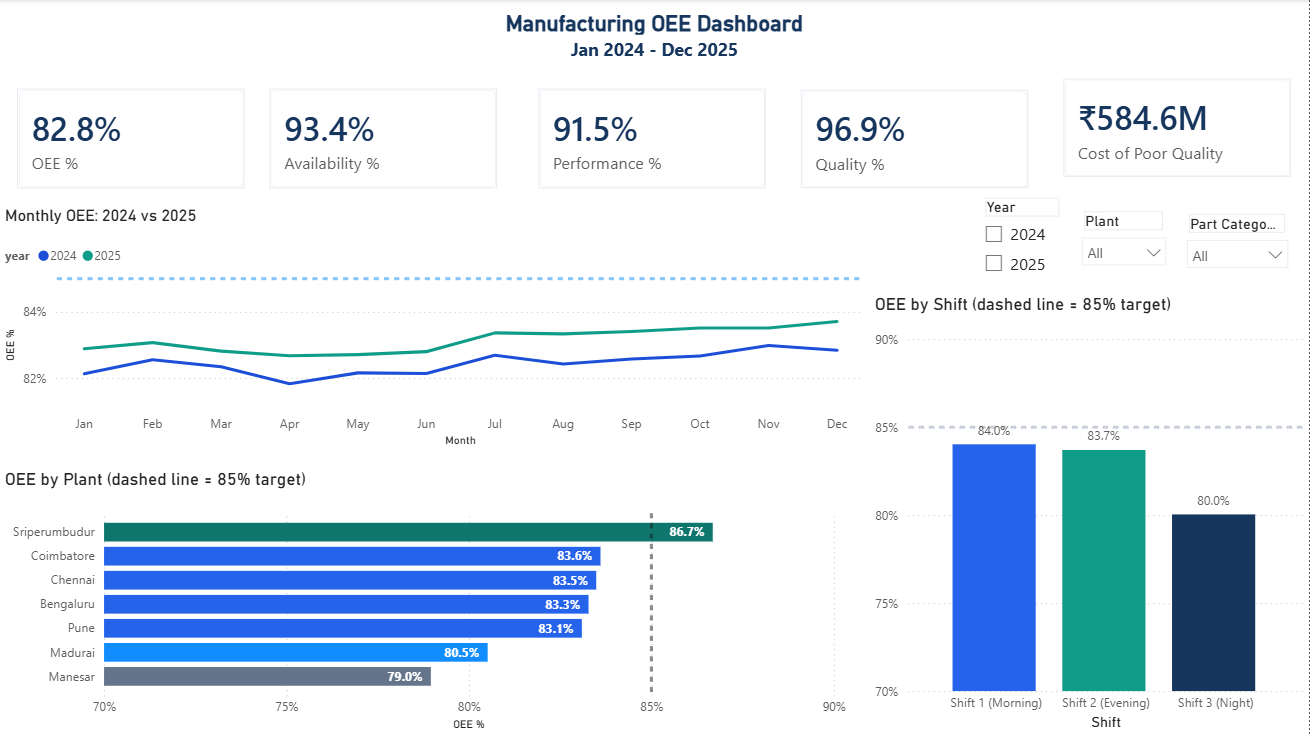

Layout of this report page (visuals, bound fields, positions):
{"tool":"powerbi","page":{"name":"Executive Overview","canvas":[1280,720],"ordinal":0},"visuals":[{"type":"cardVisual","fields":{"Data":["Measures (2).OEE %"]},"box":[0,71.4,256,131.7],"z":0},{"type":"cardVisual","fields":{"Data":["Measures (2).Availability %"]},"box":[247,71.4,256,131.7],"z":1000},{"type":"cardVisual","fields":{"Data":["Measures (2).Performance %"]},"box":[510.5,71.4,256,131.7],"z":2000},{"type":"cardVisual","fields":{"Data":["Measures (2).Quality %"]},"box":[767.1,72.7,256,130.4],"z":3000},{"type":"cardVisual","fields":{"Data":["Measures (2).Cost of Poor Quality"]},"box":[1023.7,61.7,256,130.4],"z":4000},{"type":"clusteredBarChart","title":"OEE by Plant (dashed line = 85% target)","fields":{"Category":["dim_plants.Plant Short"],"Y":["Measures (2).OEE %"]},"box":[0,459.7,832.9,260.7],"z":5000},{"type":"lineChart","title":"Monthly OEE: 2024 vs 2025","fields":{"Category":["dim_date.Month Short"],"Series":["dim_date.year"],"Y":["Measures (2).OEE %"]},"box":[0,203.1,850.8,240.1],"z":6000},{"type":"columnChart","title":"OEE by Shift (dashed line = 85% target)","fields":{"Category":["dim_shifts.shift_name"],"Y":["Measures (2).OEE %"]},"box":[850.8,288.2,429.5,432.2],"z":7000},{"type":"slicer","fields":{"Values":["dim_date.year"]},"box":[950.9,189.4,97.4,91.9],"z":8000},{"type":"slicer","fields":{"Values":["dim_plants.plant_name"]},"box":[1048.4,203.1,102.9,64.5],"z":9000},{"type":"slicer","fields":{"Values":["dim_parts.category"]},"box":[1151.3,205.8,119.4,61.7],"z":10000},{"type":"textbox","title":"Manufacturing OEE Dashboard","box":[0,11,1280.3,61.7],"z":11000}]}

Visuals, with their boxes in screenshot pixels (x1, y1, x2, y2), scaled from the page's 1280x720 canvas onto the 1310x735 screenshot:
cardVisual - Measures (2).OEE %: (0, 73, 262, 207)
cardVisual - Measures (2).Availability %: (253, 73, 515, 207)
cardVisual - Measures (2).Performance %: (522, 73, 784, 207)
cardVisual - Measures (2).Quality %: (785, 74, 1047, 207)
cardVisual - Measures (2).Cost of Poor Quality: (1048, 63, 1309, 196)
"OEE by Plant (dashed line = 85% target)" clusteredBarChart: (0, 469, 852, 734)
"Monthly OEE: 2024 vs 2025" lineChart: (0, 207, 871, 452)
"OEE by Shift (dashed line = 85% target)" columnChart: (871, 294, 1309, 734)
slicer - dim_date.year: (973, 193, 1073, 287)
slicer - dim_plants.plant_name: (1073, 207, 1178, 273)
slicer - dim_parts.category: (1178, 210, 1300, 273)
"Manufacturing OEE Dashboard" textbox: (0, 11, 1309, 74)
